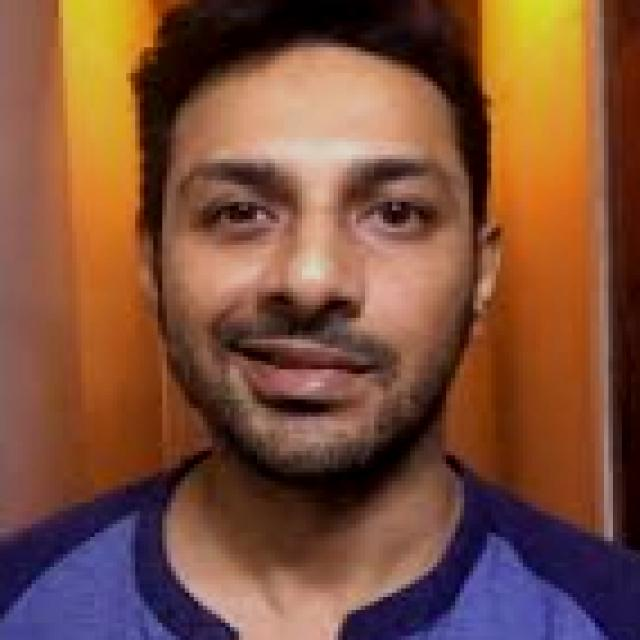stroke_face: (150, 0, 492, 479)
